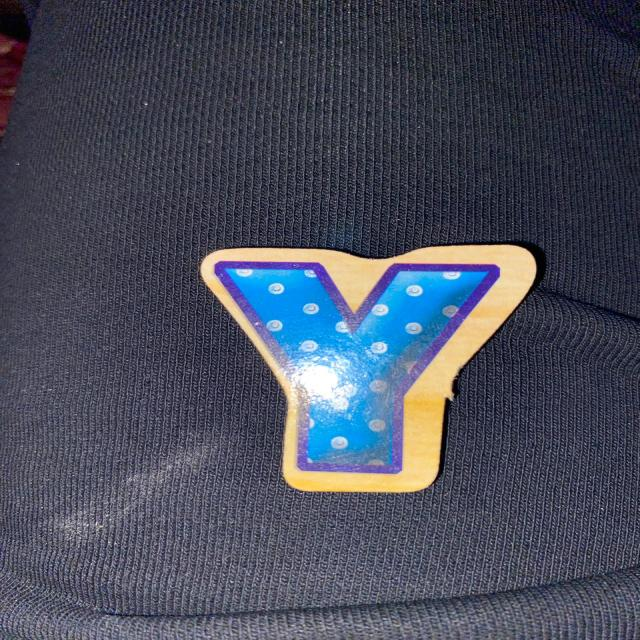Y: (201, 245, 536, 492)
